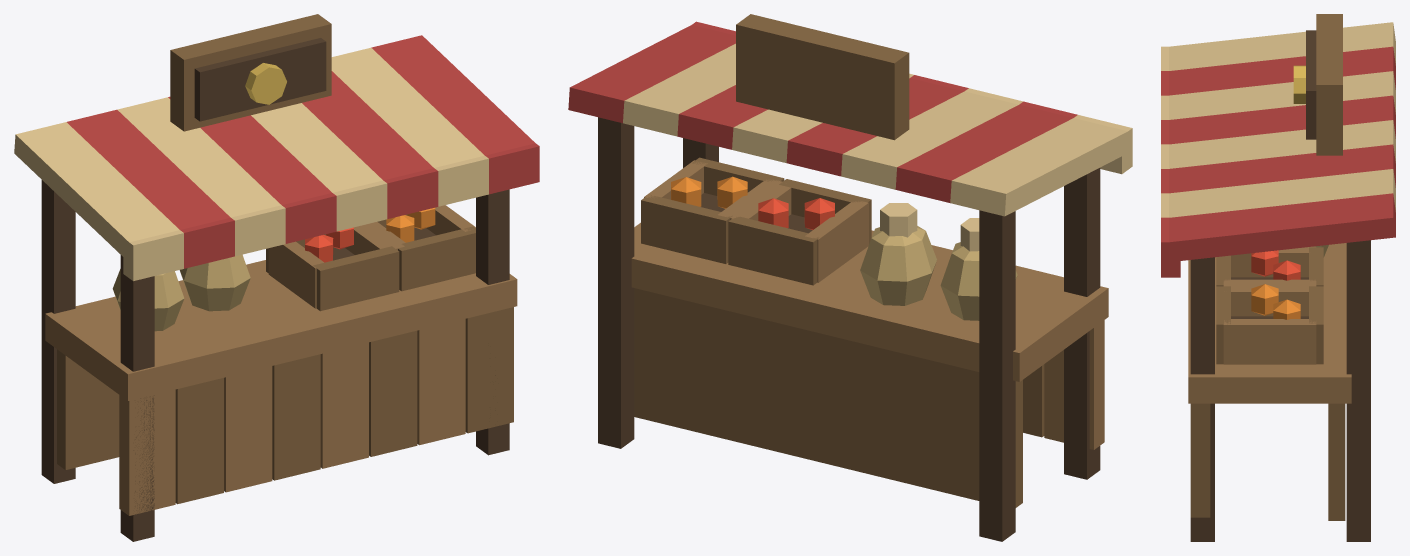
Rendered from shop_stall.glb.
3 views of the same model, side by side, from view 1: azimuth 30°, elevation 25°; view 2: azimuth 150°, elevation 25°; view 3: azimuth 270°, elevation 25° (orthographic). The views are drawn at different scales.
Parts seen in each view (by area): view 1: Stall_counter, Striped_canvas_awning, Striped_canvas_awning.007, Striped_canvas_awning.001, Striped_canvas_awning.006, Stall_wooden_post.001, Market_sign_board, Stall_counter_front_board, Striped_canvas_awning.002, Market_sign_face, Stall_counter_back, Stall_counter_front_board.002 (+29 smaller); view 2: Stall_counter_back, Stall_counter, Market_sign_board, Stall_wooden_post.001, Stall_wooden_post.003, Striped_canvas_awning, Stall_wooden_post, Striped_canvas_awning.001, Striped_canvas_awning.007, Striped_canvas_awning.002, Striped_canvas_awning.006, Burlap_seed_sack.001 (+21 smaller); view 3: Striped_canvas_awning.007, Stall_counter, Stall_wooden_post.003, Striped_canvas_awning.006, Striped_canvas_awning.005, Striped_canvas_awning.004, Striped_canvas_awning.003, Striped_canvas_awning, Striped_canvas_awning.001, Striped_canvas_awning.002, Produce_crate_side.003, Stall_wooden_post.002 (+17 smaller).
Boxes of the visible parts, <box> form: Stall_counter: <box>45,260,517,400</box>; Striped_canvas_awning: <box>14,122,179,262</box>; Striped_canvas_awning.007: <box>371,35,535,155</box>; Striped_canvas_awning.001: <box>67,109,230,229</box>; Striped_canvas_awning.006: <box>331,47,484,167</box>; Stall_wooden_post.001: <box>41,180,75,483</box>; Market_sign_board: <box>170,14,331,131</box>; Stall_counter_front_board: <box>119,389,175,515</box>; Striped_canvas_awning.002: <box>117,97,281,217</box>; Market_sign_face: <box>194,38,326,121</box>; Stall_counter_back: <box>57,349,119,469</box>; Stall_counter_front_board.002: <box>224,366,272,492</box>; Stall_counter_back: <box>634,288,1022,507</box>; Stall_counter: <box>631,222,1108,381</box>; Market_sign_board: <box>736,14,909,140</box>; Stall_wooden_post.001: <box>979,210,1015,541</box>; Stall_wooden_post.003: <box>598,117,634,448</box>; Striped_canvas_awning: <box>950,118,1127,216</box>; Stall_wooden_post: <box>1064,168,1100,479</box>; Striped_canvas_awning.001: <box>895,104,1072,202</box>; Striped_canvas_awning.007: <box>568,25,735,123</box>; Striped_canvas_awning.002: <box>841,91,1018,189</box>; Striped_canvas_awning.006: <box>623,43,735,136</box>; Burlap_seed_sack.001: <box>860,226,936,305</box>; Striped_canvas_awning.007: <box>1167,193,1395,261</box>; Stall_counter: <box>1188,243,1351,403</box>; Stall_wooden_post.003: <box>1346,240,1370,541</box>; Striped_canvas_awning.006: <box>1169,169,1395,217</box>; Striped_canvas_awning.005: <box>1169,144,1395,193</box>; Striped_canvas_awning.004: <box>1169,120,1395,168</box>; Striped_canvas_awning.003: <box>1169,95,1395,144</box>; Striped_canvas_awning: <box>1169,22,1395,70</box>; Striped_canvas_awning.001: <box>1169,46,1395,95</box>; Striped_canvas_awning.002: <box>1169,71,1395,119</box>; Produce_crate_side.003: <box>1223,319,1316,364</box>; Stall_wooden_post.002: <box>1190,257,1214,541</box>.
Bounding box in the file's own units: 1.9 × 1.82 × 0.964.
